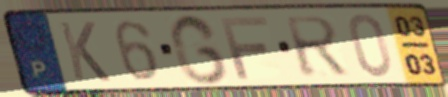0: (345, 12, 394, 80)
6: (111, 18, 163, 83)
F: (217, 14, 272, 81)
G: (166, 12, 232, 87)
K: (55, 19, 114, 84)
R: (282, 14, 352, 80)
